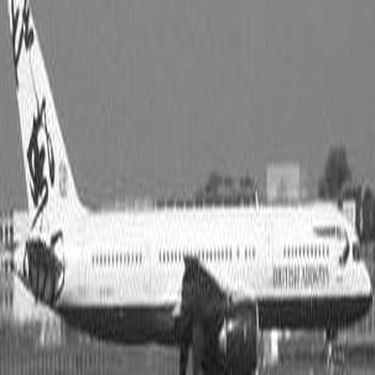airplane: (5, 5, 370, 370)
